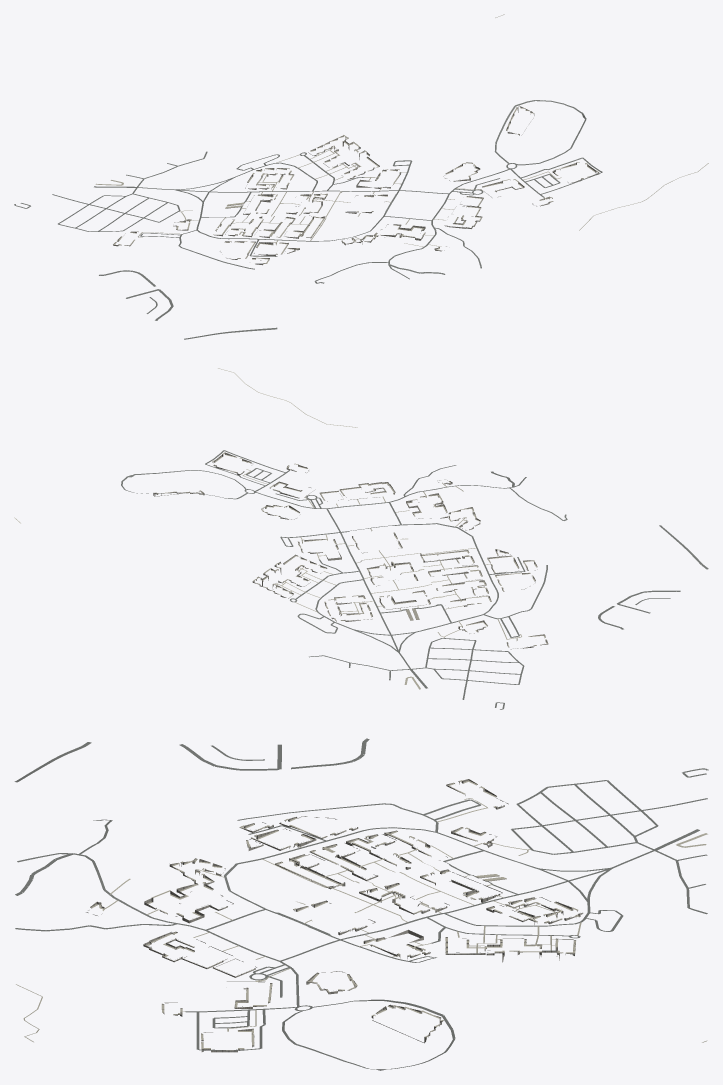
The picture shows the model from 3 angles, top to bottom: view 1: azimuth 30°, elevation 25°; view 2: azimuth 150°, elevation 25°; view 3: azimuth 270°, elevation 25°; orthographic projection. The views are drawn at different scales.
Visible parts, largest first — view 1: dku-asphalt-overlay, dku-stonebank, dku-paving, dku-paving-overlay; view 2: dku-asphalt-overlay, dku-stonebank, dku-paving, dku-paving-overlay; view 3: dku-asphalt-overlay, dku-stonebank, dku-paving, dku-paving-overlay, site, site-concrete.
Part boxes in pixels (x1,y1,x2,y2): dku-asphalt-overlay: (14,100,602,339); dku-stonebank: (113,106,599,265); dku-paving: (114,106,598,263); dku-paving-overlay: (95,14,708,246); dku-asphalt-overlay: (121,450,708,709); dku-stonebank: (153,452,548,648); dku-paving: (156,452,547,646); dku-paving-overlay: (14,368,521,689); dku-asphalt-overlay: (14,738,708,1070); dku-stonebank: (90,779,583,1052); dku-paving: (91,780,578,1048); dku-paving-overlay: (16,798,707,1042); site: (91,779,581,1050); site-concrete: (86,798,573,1042).
Size of the model in its own units: 1097 by 150 by 791.
Materials: 9 (4 with a texture image).
